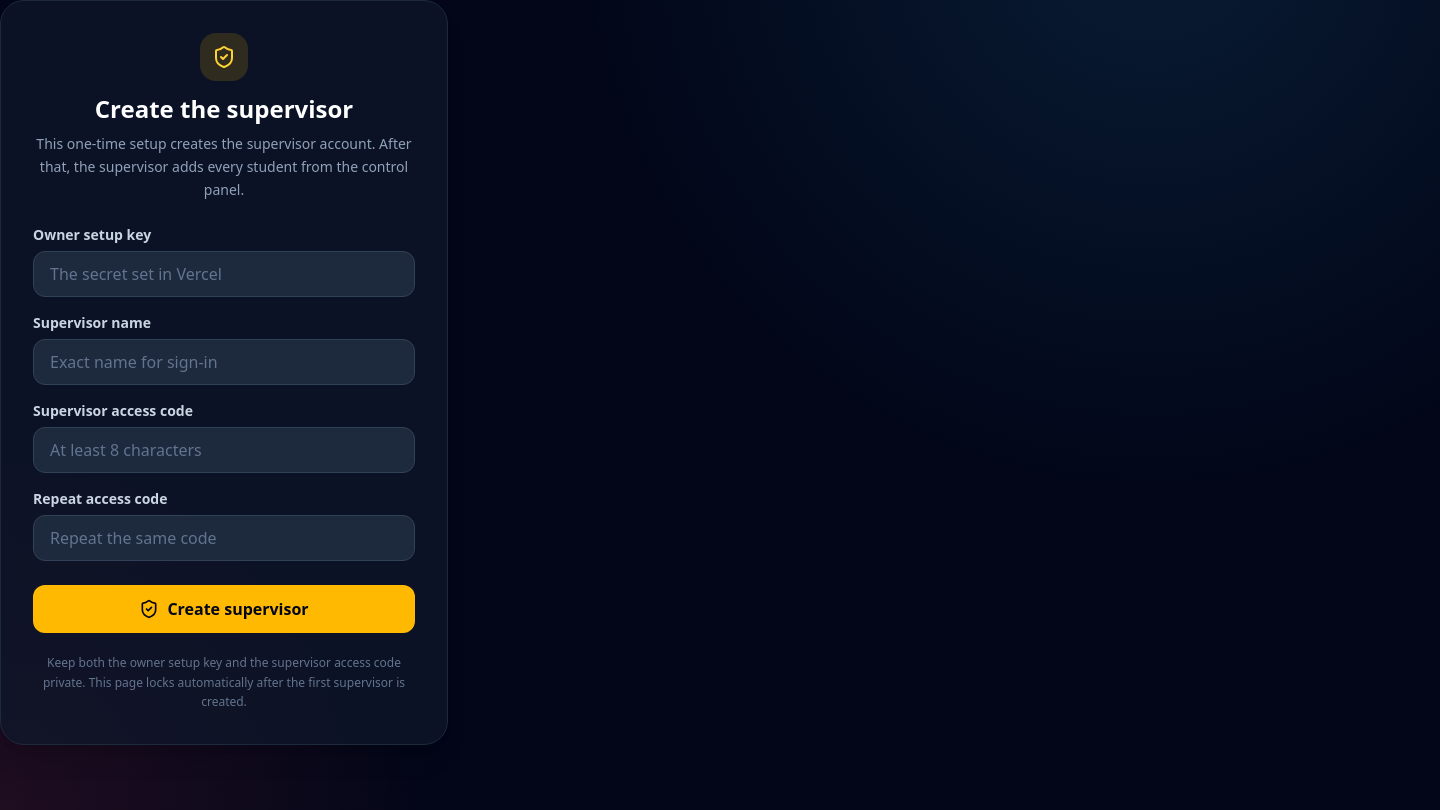
Test: <SetupSupervisorForm /> › shows a clear message when setup is already locked
Type "owner-secret-123456" into the password field labelled "Owner setup key". click: [224, 274]
box: top-left (33, 251), bottom-right (415, 297)
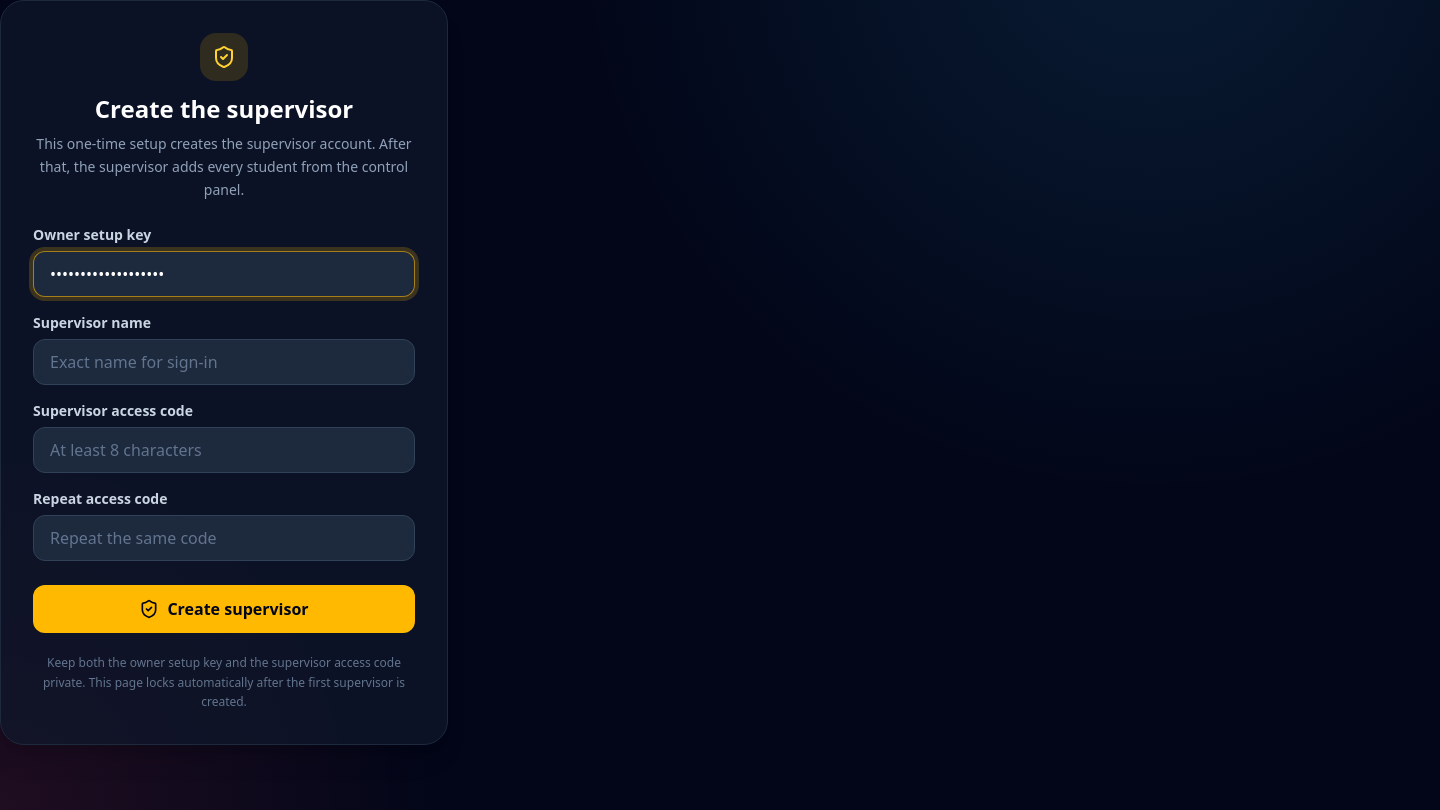
Type "Ms Sara" into the field labelled "Supervisor name". click: [224, 362]
box: top-left (33, 339), bottom-right (415, 385)
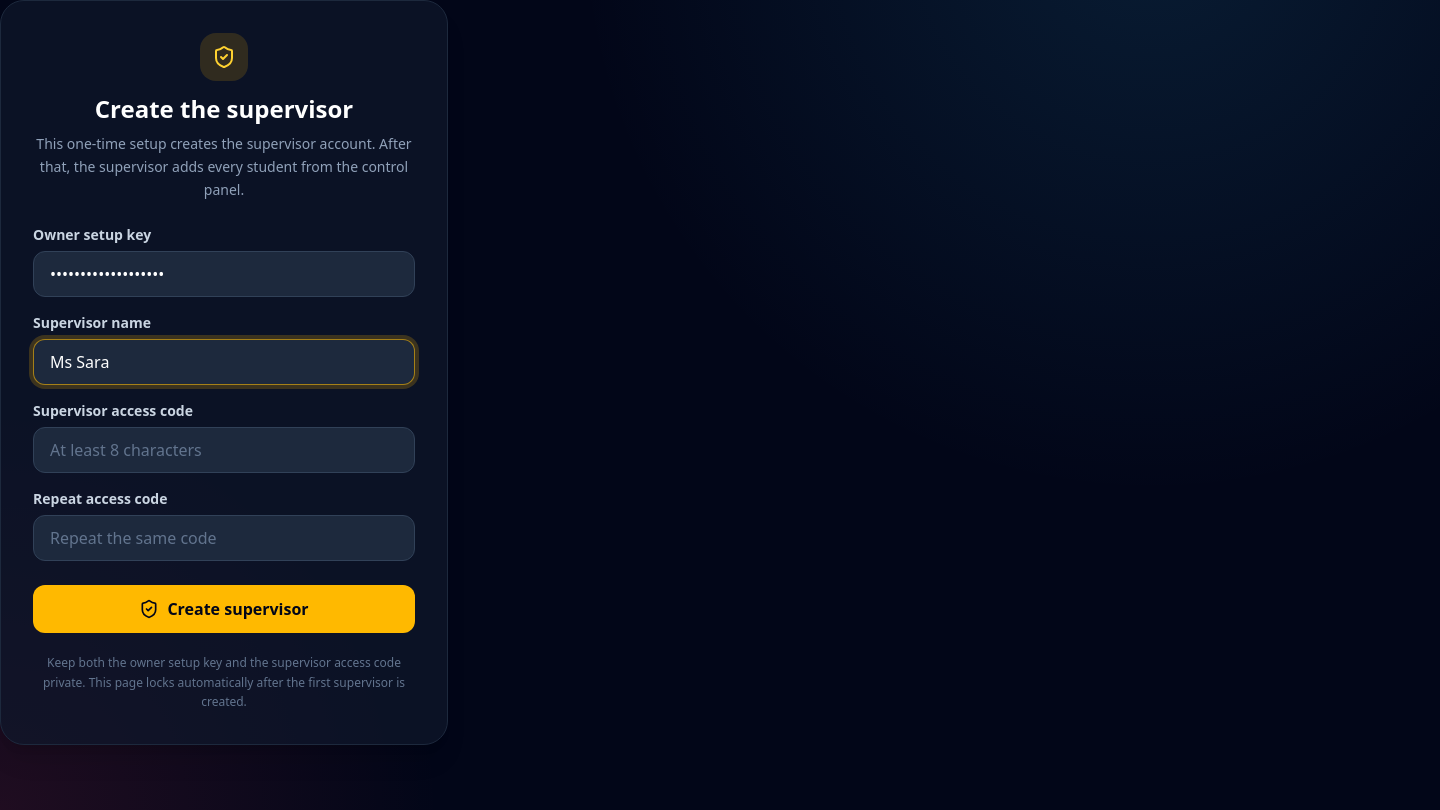
Type "SUPER1234" into the password field labelled "Supervisor access code". click: [224, 450]
box: top-left (33, 427), bottom-right (415, 473)
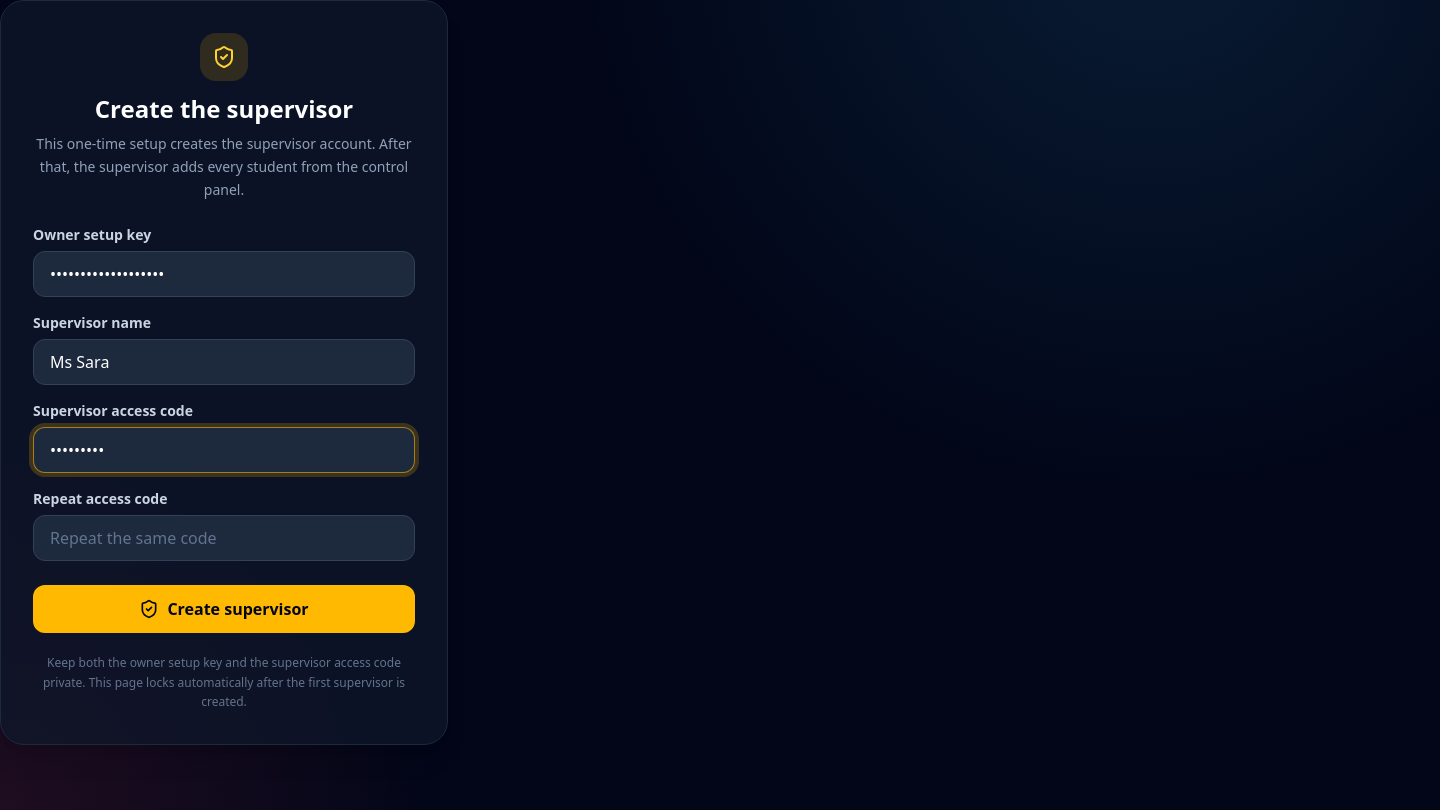
Type "SUPER1234" into the password field labelled "Repeat access code". click: [224, 538]
box: top-left (33, 515), bottom-right (415, 561)
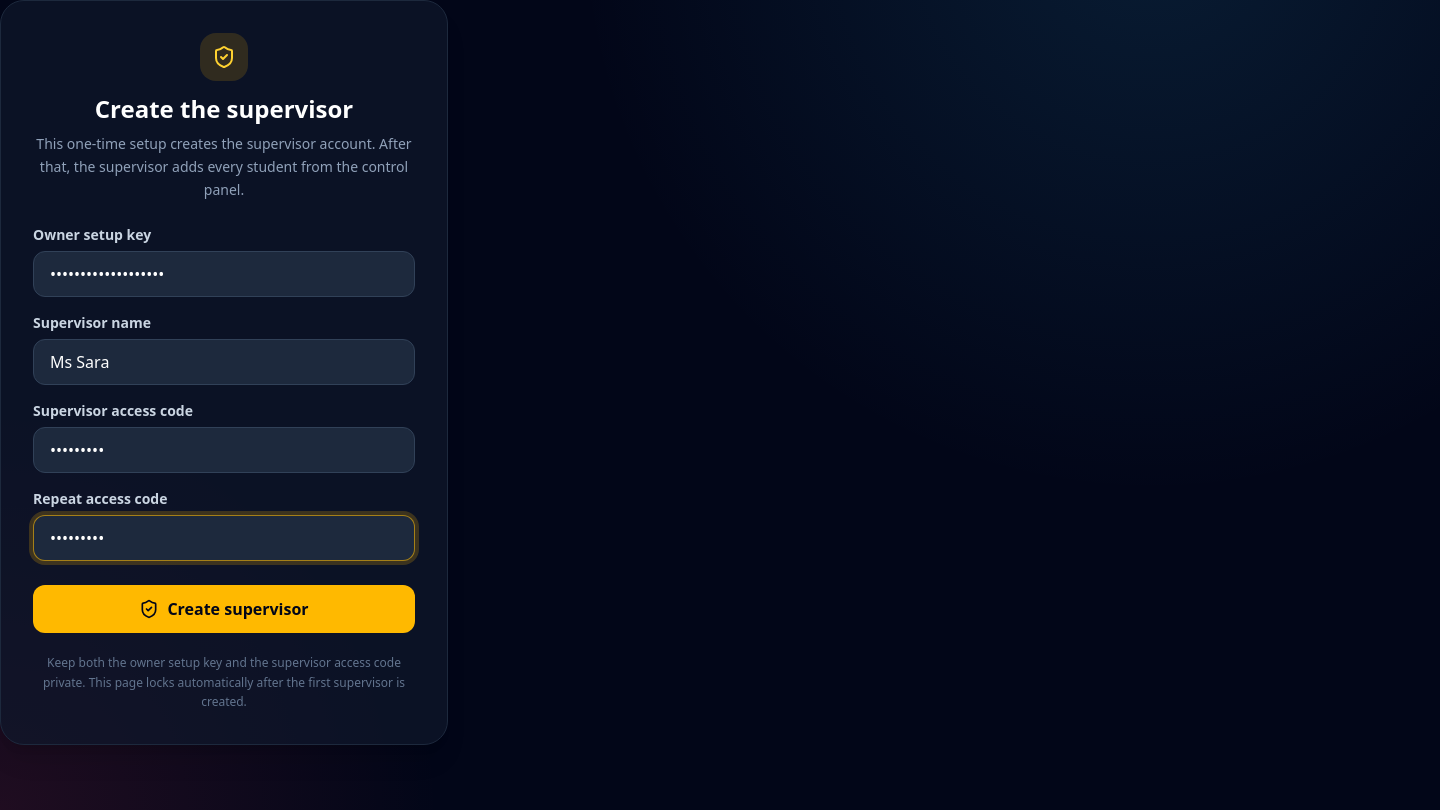
Click the button "Create supervisor". click: [224, 609]
box: top-left (33, 585), bottom-right (415, 633)
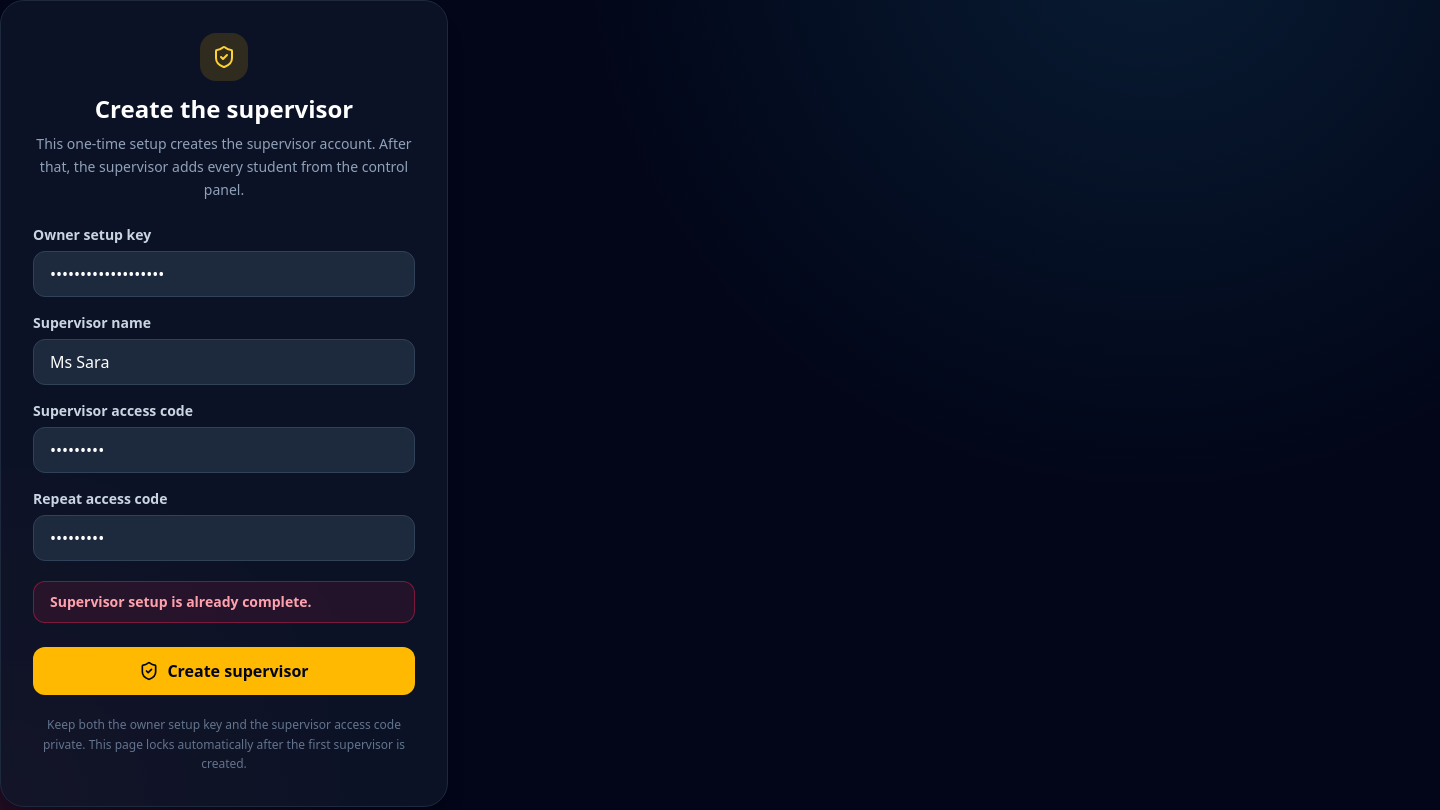
Now the message shows "Supervisor setup is already complete", box top-left (50, 592), bottom-right (312, 611)
